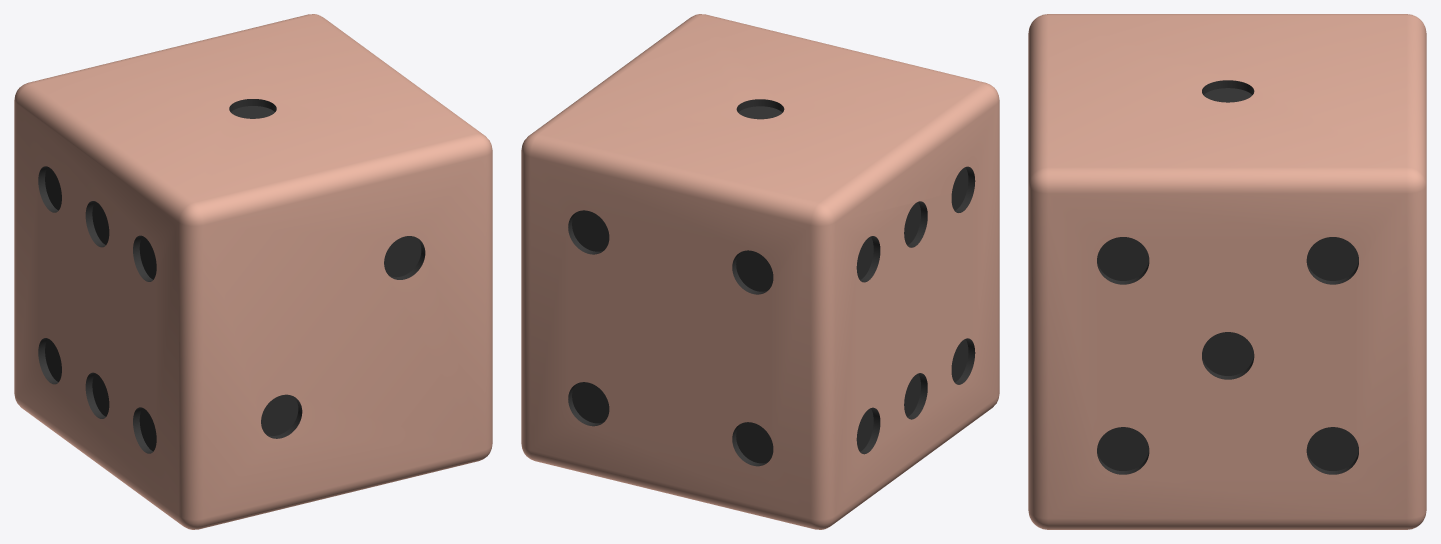
The model's file is pointDice.glb.
3 renders of one model, left to right at view 1: azimuth 30°, elevation 25°; view 2: azimuth 150°, elevation 25°; view 3: azimuth 270°, elevation 25°, orthographic. The views are drawn at different scales.
Parts seen in each view (by area): view 1: 立方体.002; view 2: 立方体.002; view 3: 立方体.002.
Part boxes in pixels (<box>): 立方体.002: <box>14,14,492,529</box>; 立方体.002: <box>521,14,999,529</box>; 立方体.002: <box>1028,14,1426,529</box>.
Bounding box in the file's own units: 1 × 1 × 1.
